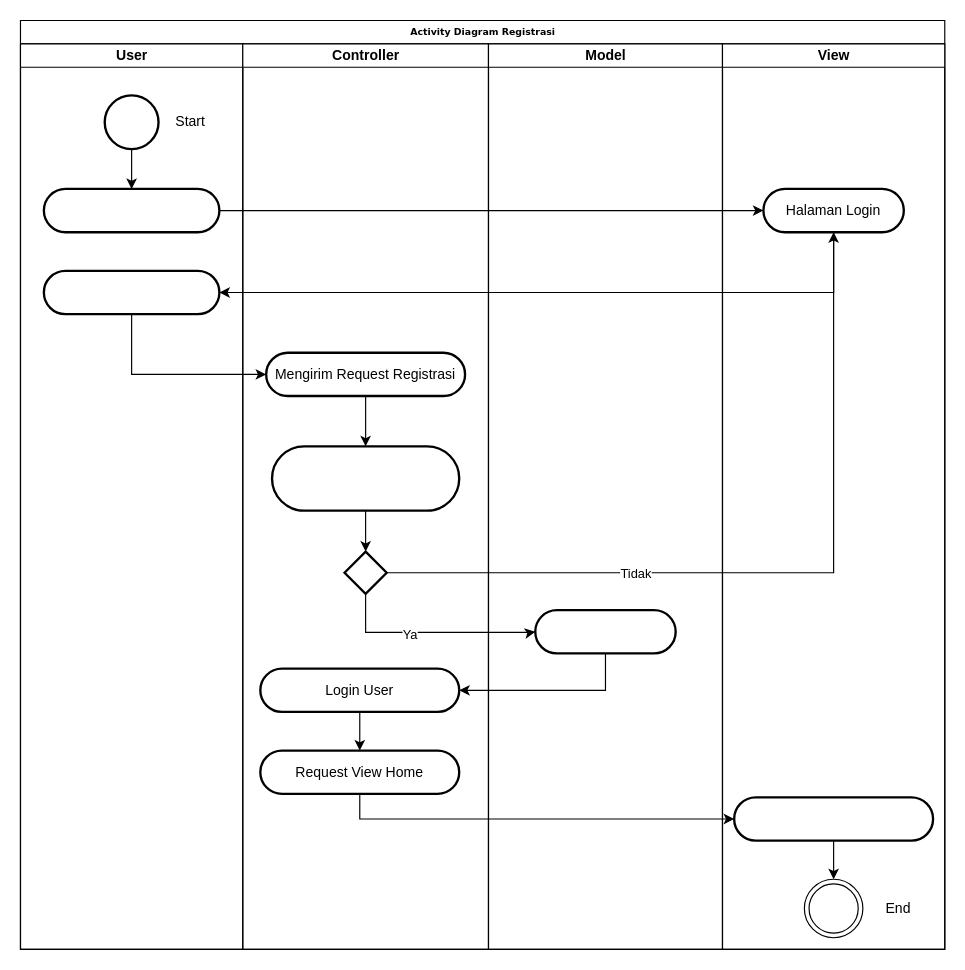
This 965x970 diagram has some shape labels left out. The shapes that lost their labels are listed below. From the top down, each one's centre as x and y in pixels, then its label:
the point at 131,210: Memilih Menu Registerasi
the point at 131,292: Input Informasi
the point at 365,478: Validasi name, email, password, confirm password
the point at 605,631: Insert Data
the point at 833,818: Menampilkan Home
